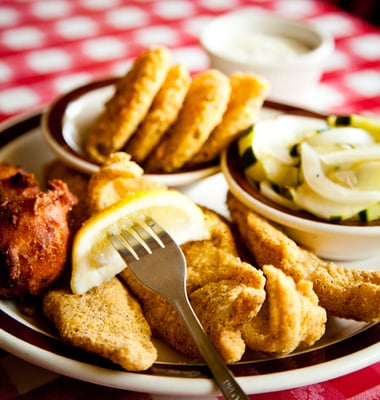burger: (112, 216, 251, 400)
salad: (112, 217, 250, 400)
sushi: (219, 108, 380, 266)
